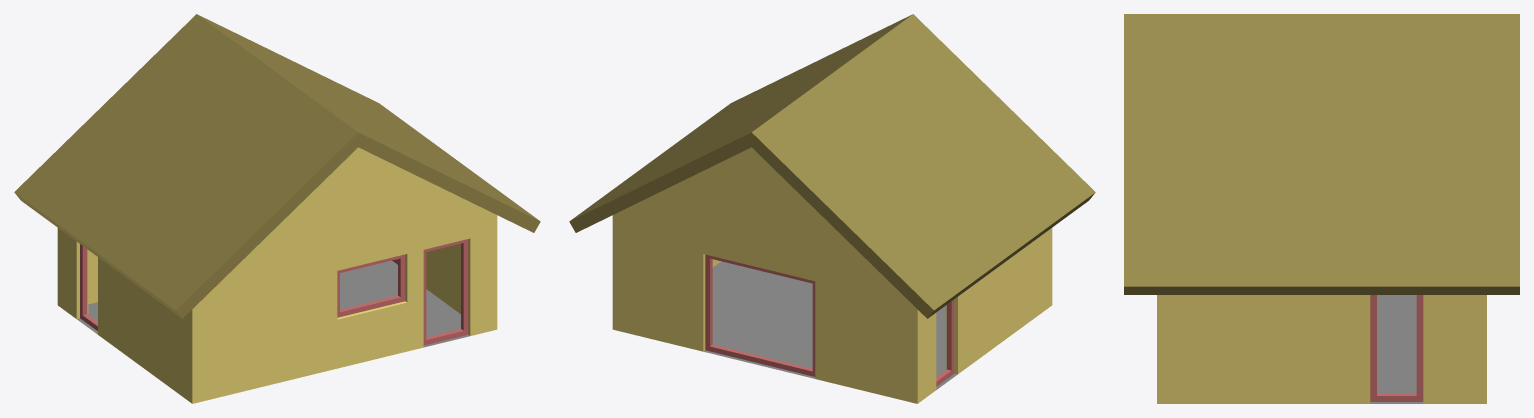
Rendered from result.glb.
3 views of the same model, side by side, from view 1: azimuth 30°, elevation 25°; view 2: azimuth 150°, elevation 25°; view 3: azimuth 270°, elevation 25° (orthographic). The views are drawn at different scales.
Visible parts, largest first — view 1: c5d6ccd7-5614-4dd5-91f2-72b6796f03ab__undefined (×2), 30f8a491-50cf-486b-83f2-c1b8f1bbac9b__undefined, 2d6b6b33-dc1a-4683-a08b-7f973b8e402f__Plane_6, 56ad4d31-af78-412c-affc-b6e785268260__Box, 5dd2f8fc-4fcc-4d47-ab39-b1f09f77bfd7__Box_3, ac9c1460-6480-4b8b-9235-3aef548e440d__Box_12; view 2: c5d6ccd7-5614-4dd5-91f2-72b6796f03ab__undefined (×2), 30f8a491-50cf-486b-83f2-c1b8f1bbac9b__undefined, 2d6b6b33-dc1a-4683-a08b-7f973b8e402f__Plane_6, eb66a97c-4b33-48f8-a8bc-dedcbf605a86__Box_9, ac9c1460-6480-4b8b-9235-3aef548e440d__Box_12; view 3: c5d6ccd7-5614-4dd5-91f2-72b6796f03ab__undefined, 30f8a491-50cf-486b-83f2-c1b8f1bbac9b__undefined, 2d6b6b33-dc1a-4683-a08b-7f973b8e402f__Plane_6, 156284b2-594b-427b-97d7-1a57572b85ac__Box_15.
Boxes of the visible parts, x1=… form: c5d6ccd7-5614-4dd5-91f2-72b6796f03ab__undefined (×2): x1=14, y1=14, x2=540, y2=318; 30f8a491-50cf-486b-83f2-c1b8f1bbac9b__undefined: x1=57, y1=147, x2=497, y2=403; 2d6b6b33-dc1a-4683-a08b-7f973b8e402f__Plane_6: x1=77, y1=260, x2=469, y2=347; 56ad4d31-af78-412c-affc-b6e785268260__Box: x1=423, y1=239, x2=468, y2=345; 5dd2f8fc-4fcc-4d47-ab39-b1f09f77bfd7__Box_3: x1=337, y1=254, x2=405, y2=317; ac9c1460-6480-4b8b-9235-3aef548e440d__Box_12: x1=80, y1=244, x2=97, y2=330; c5d6ccd7-5614-4dd5-91f2-72b6796f03ab__undefined (×2): x1=569, y1=14, x2=1095, y2=318; 30f8a491-50cf-486b-83f2-c1b8f1bbac9b__undefined: x1=612, y1=147, x2=1052, y2=403; 2d6b6b33-dc1a-4683-a08b-7f973b8e402f__Plane_6: x1=703, y1=261, x2=957, y2=389; eb66a97c-4b33-48f8-a8bc-dedcbf605a86__Box_9: x1=705, y1=254, x2=815, y2=376; ac9c1460-6480-4b8b-9235-3aef548e440d__Box_12: x1=936, y1=299, x2=954, y2=386; c5d6ccd7-5614-4dd5-91f2-72b6796f03ab__undefined: x1=1124, y1=14, x2=1519, y2=294; 30f8a491-50cf-486b-83f2-c1b8f1bbac9b__undefined: x1=1157, y1=295, x2=1486, y2=403; 2d6b6b33-dc1a-4683-a08b-7f973b8e402f__Plane_6: x1=1370, y1=295, x2=1423, y2=403; 156284b2-594b-427b-97d7-1a57572b85ac__Box_15: x1=1370, y1=295, x2=1423, y2=401.
Size of the model in its own units: 782 by 500 by 600.
